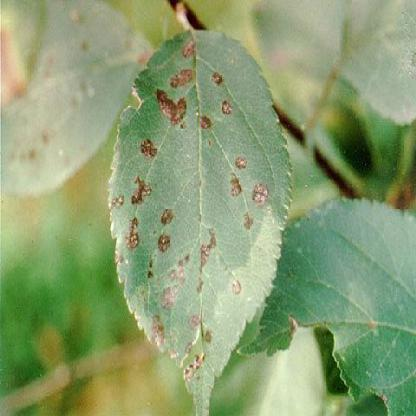apple scab leaf: (109, 23, 298, 415)
